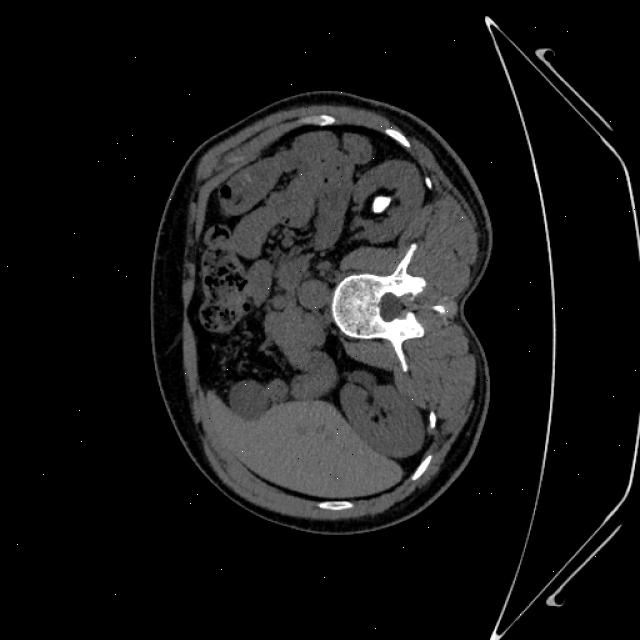kidneystone: (372, 196, 392, 212)
